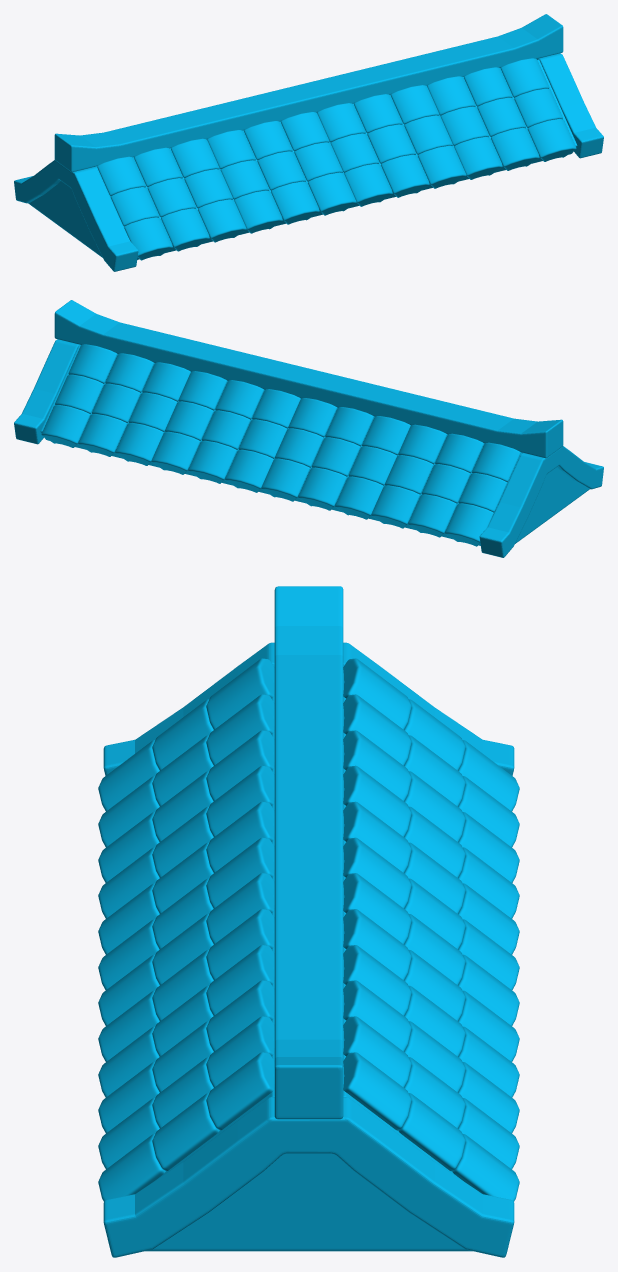
The model's file is SM_Stone_Roof_05.fbx.
The picture shows the model from 3 angles, top to bottom: view 1: azimuth 30°, elevation 25°; view 2: azimuth 150°, elevation 25°; view 3: azimuth 270°, elevation 25°; orthographic projection. The views are drawn at different scales.
Visible parts, largest first — view 1: SM_Stone_Roof_05; view 2: SM_Stone_Roof_05; view 3: SM_Stone_Roof_05.
Part boxes in pixels (x1=…): SM_Stone_Roof_05: x1=14, y1=14, x2=603, y2=271; SM_Stone_Roof_05: x1=14, y1=300, x2=603, y2=557; SM_Stone_Roof_05: x1=98, y1=586, x2=519, y2=1257.
Size of the model in its own units: 7.54 by 1.43 by 2.8.
